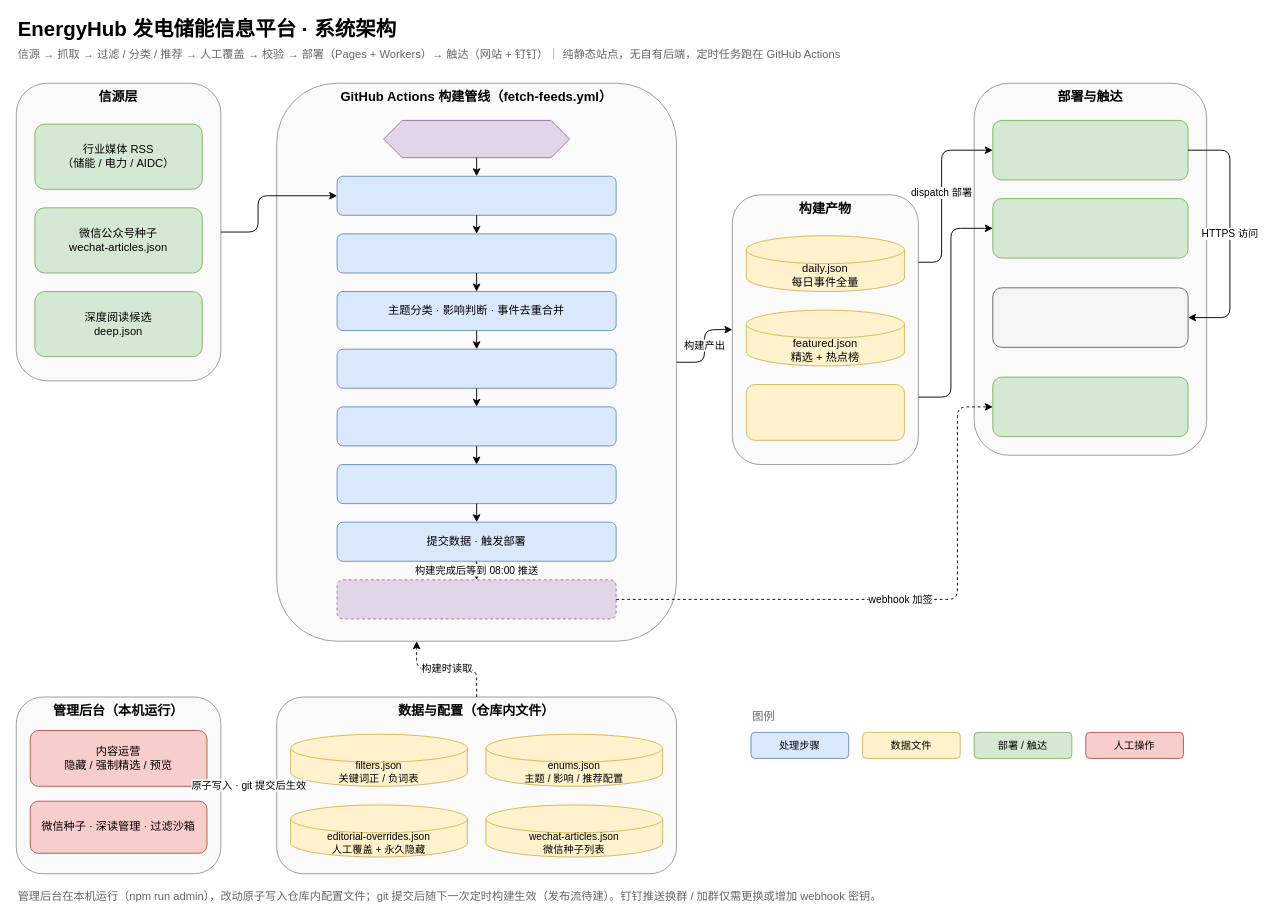
Some shapes in this 1274 by 923 pixel diagram are drawn without their labels. The centre of each missing label's shape, as x and y in pixels:
Cloudflare Workers（备份）: (x=1090, y=228)
GitHub Pages（主入口） keningke.github.io/EnergyHub: (x=1090, y=150)
关键词过滤（正 / 负词表）: (x=476, y=253)
定时触发 北京时间 05:00 / 12:00: (x=476, y=139)
应用人工覆盖（隐藏 / 强制精选 / 改写）: (x=476, y=426)
抓取 RSS / 微信文章: (x=476, y=195)
推荐编排：精选 12 条 + 热点榜 ≤5: (x=476, y=368)
数据校验 + 自动化测试（200+ 项）: (x=476, y=484)
网站访客 浏览器直读纯静态页: (x=1090, y=317)
钉钉热点推送（每日 08:00）: (x=476, y=599)
钉钉群（测试群） 热点榜 + 今日观察: (x=1090, y=406)
静态页面 （纯前端，无后端）: (x=824, y=412)
